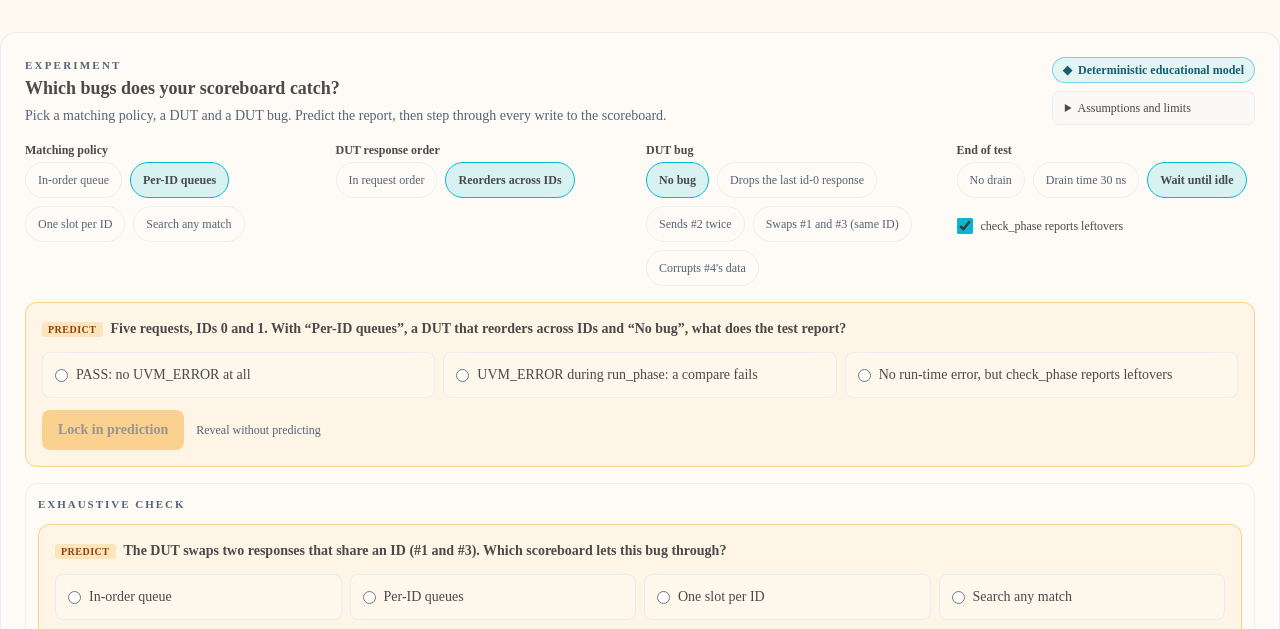
Test case: ScoreboardMatchingVisualizer › re-asks after a keyboard policy change and diagnoses the in-order false mismatch
Press ArrowLeft in the radio button labelled "Per-ID queues" below "DUT response order", box [130, 162, 229, 198]
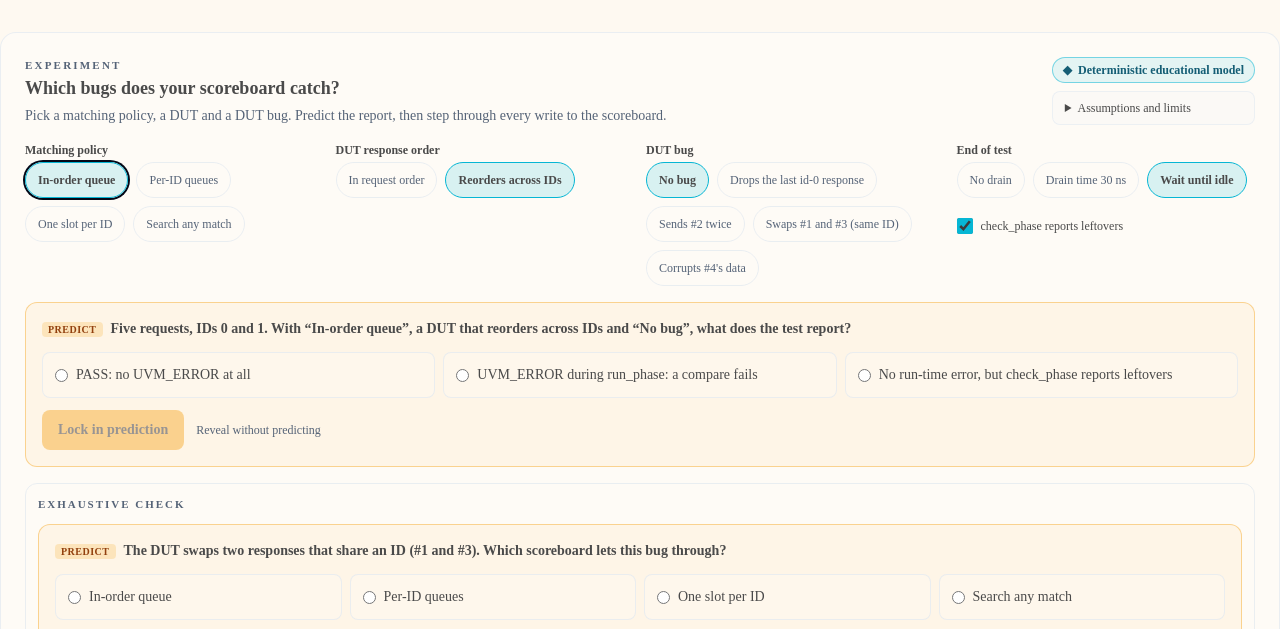
expect the button "Lock in prediction" below "PASS: no UVM_ERROR at all" is disabled: met, box [42, 410, 184, 450]
expect the radio button labelled "In-order queue" below "DUT response order" is checked: met, box [25, 162, 128, 198]
Click the radio button labelled "PASS: no UVM_ERROR at all" at (62, 375), box [55, 368, 68, 382]
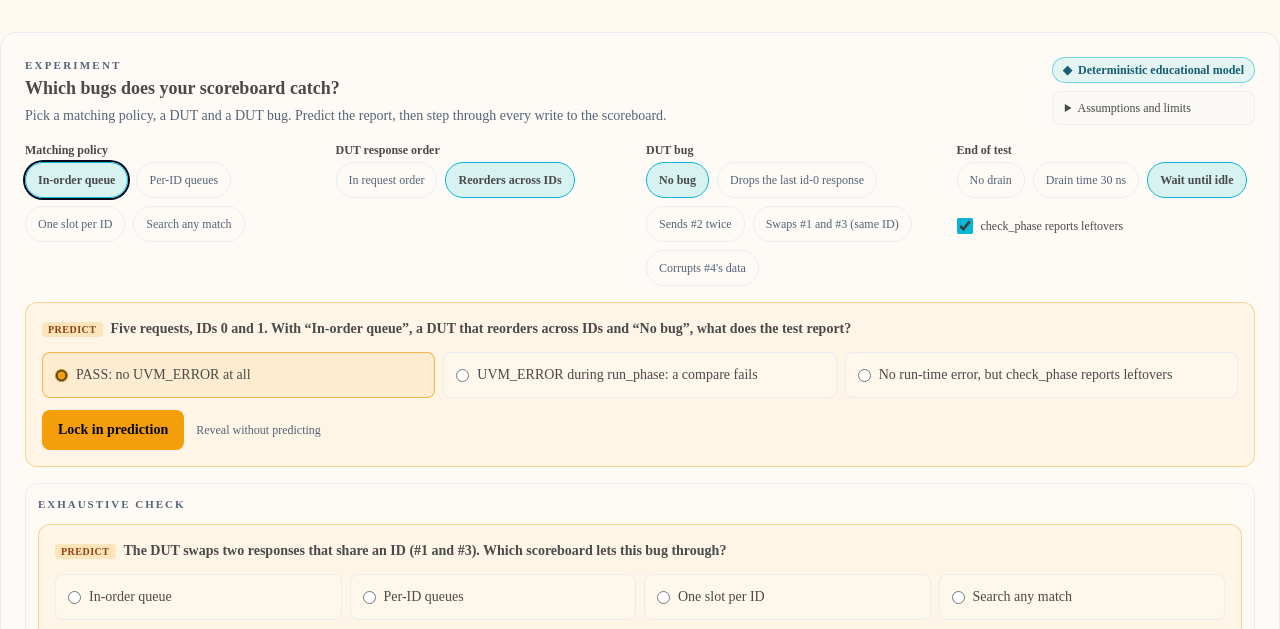
Click the button "Lock in prediction" below "PASS: no UVM_ERROR at all" at (113, 430), box [42, 410, 184, 450]
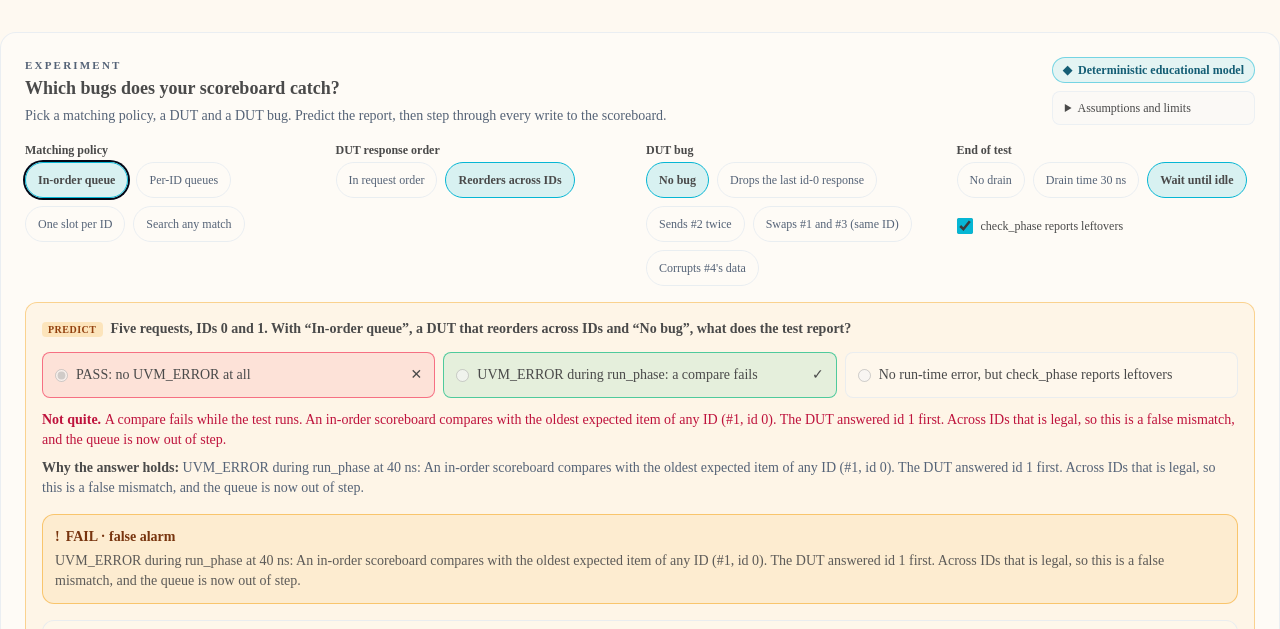
expect the text "Not quite." is shown: met, box [42, 412, 105, 426]
expect the text "false mismatch" is shown: met, box [42, 412, 1235, 446]
